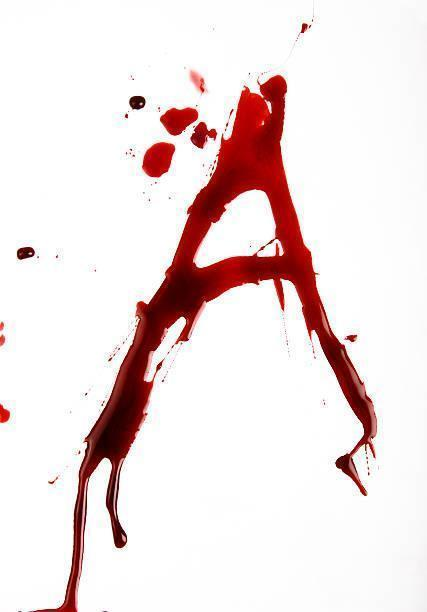Fire: (45, 75, 377, 612), (144, 143, 175, 177), (160, 107, 197, 135), (191, 122, 217, 148), (190, 69, 208, 94), (16, 247, 34, 260), (130, 96, 145, 108)
